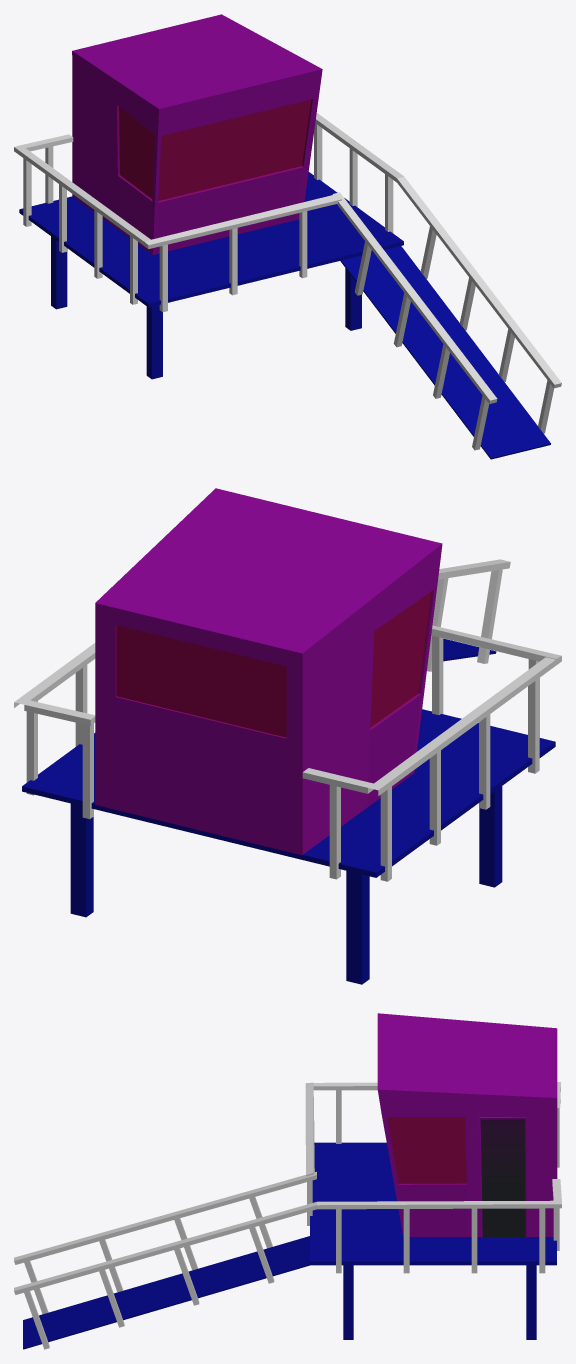
The model's file is CasetaSocrro.fbx.
The picture shows the model from 3 angles, top to bottom: view 1: azimuth 30°, elevation 25°; view 2: azimuth 150°, elevation 25°; view 3: azimuth 270°, elevation 25°; orthographic projection. The views are drawn at different scales.
Visible parts, largest first — view 1: Cube; view 2: Cube; view 3: Cube.
Boxes of the visible parts, x1=… form: Cube: x1=14, y1=14, x2=561, y2=459; Cube: x1=14, y1=488, x2=561, y2=984; Cube: x1=14, y1=1013, x2=561, y2=1349.
Size of the model in its own units: 2.46 by 2.25 by 4.65.
